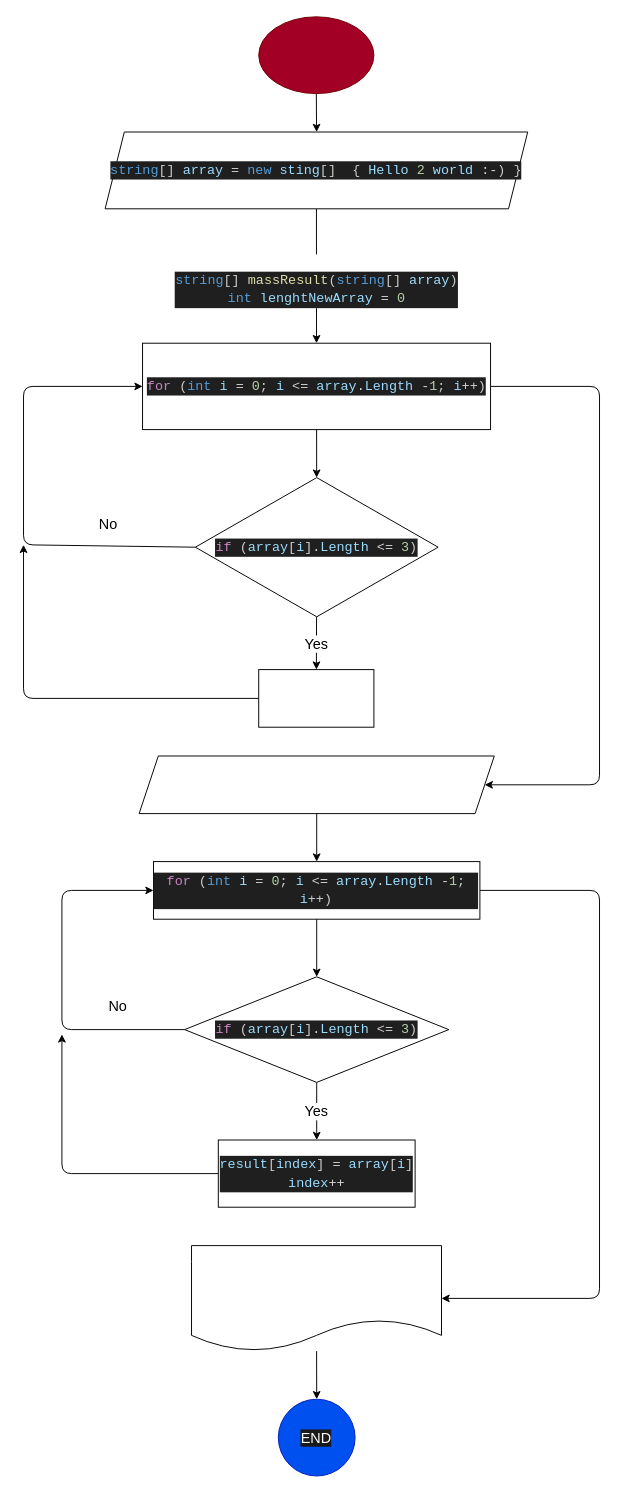
The diagram is 624 pixels wide and 1493 high, and some of its shapes have lost their labels. Here are the shapes that lost their labels. From the top down, the centre of each, then its label:
pixel 316 55: START
pixel 316 698: lenghtNewArray ++
pixel 316 784: string [] result = new string [ lenghtNewArray ] int index = 0
pixel 316 1298: teringСharacters ( array ) Print ( array ) Print2 ( massResult ( array ))
